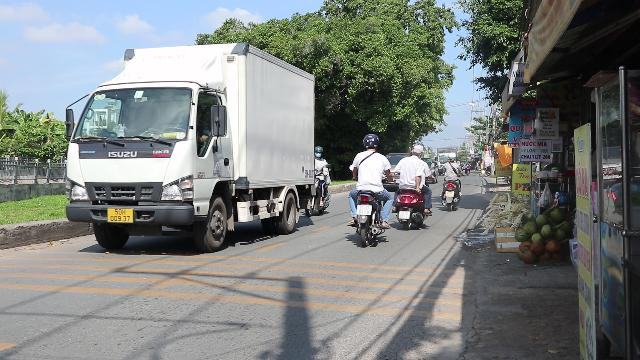helmet: (361, 134, 379, 150), (313, 146, 323, 158)
licenseplate: (356, 205, 372, 215), (398, 212, 409, 218)
motorcyclist: (344, 132, 392, 246), (392, 142, 432, 230), (304, 146, 332, 216)
nohelmet: (412, 144, 424, 158)
